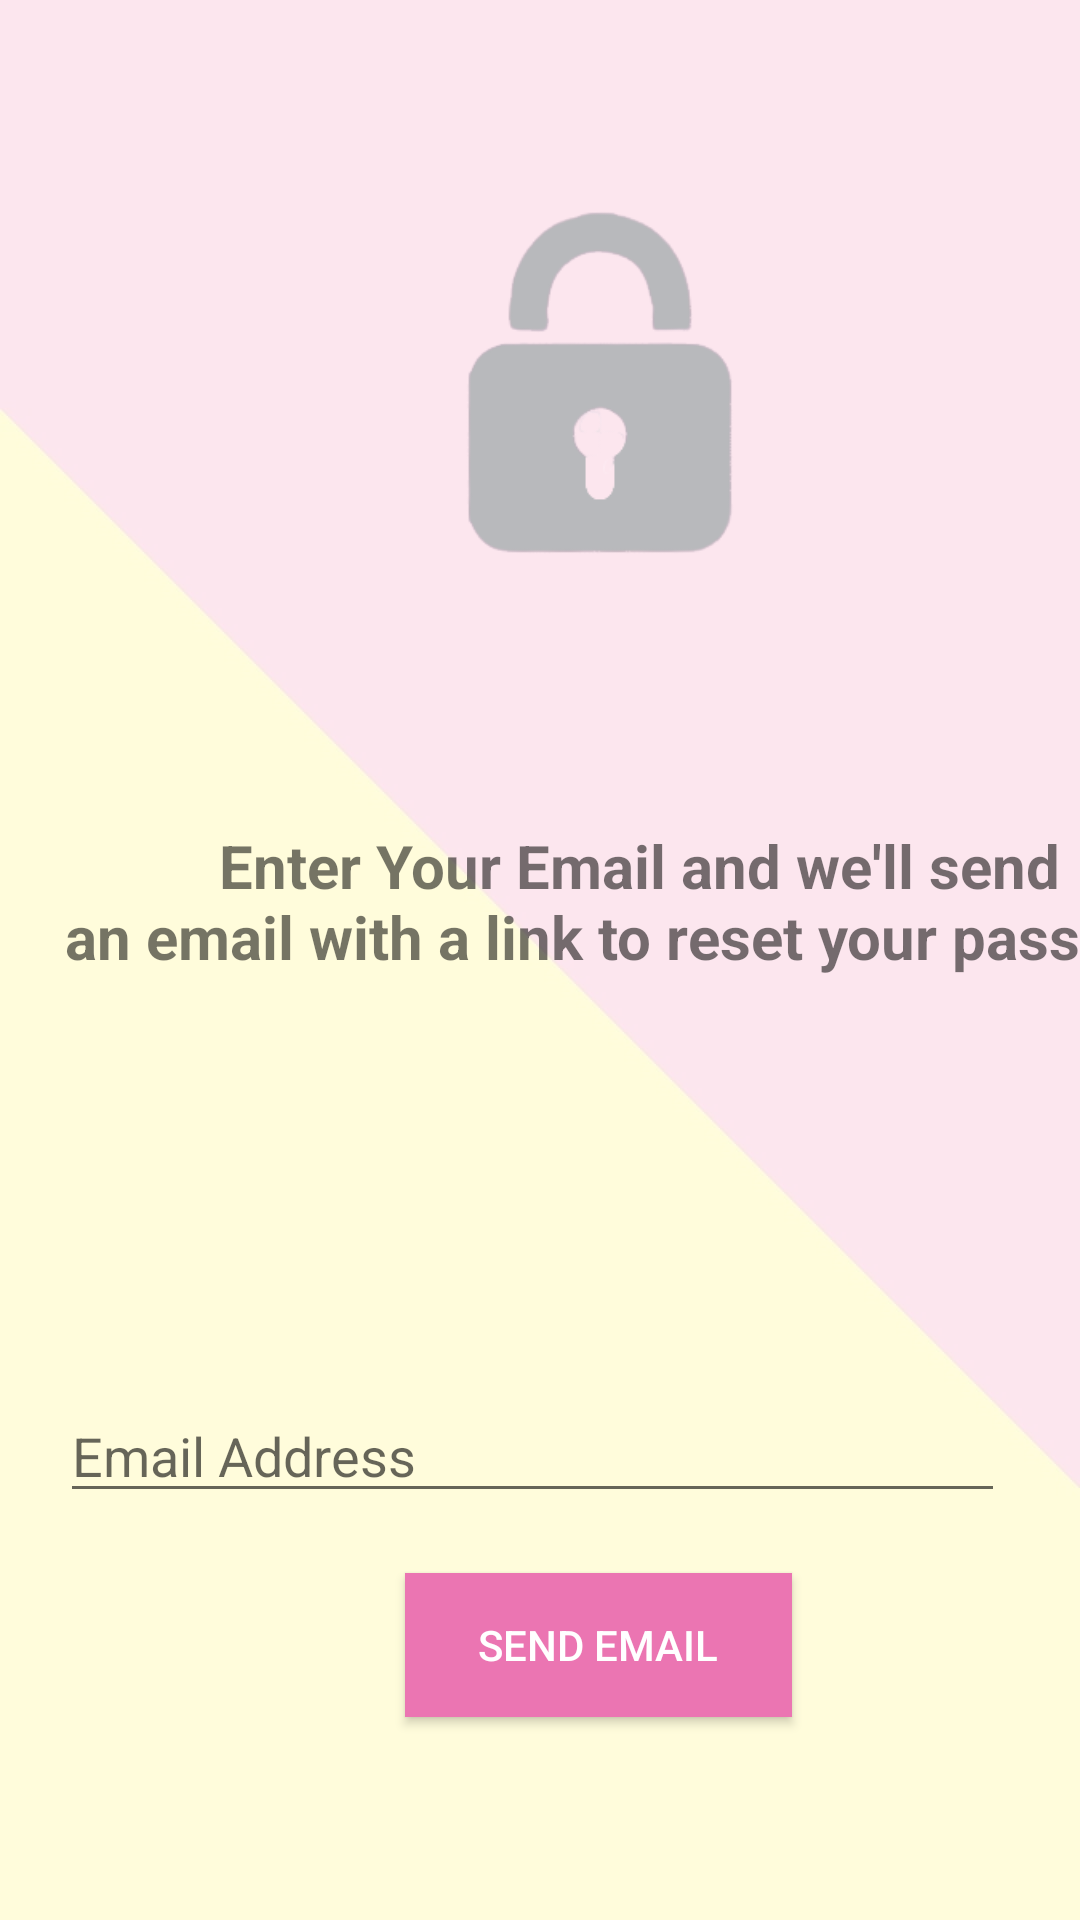

Screen size 1080*1920. Icon name, then its box in pixels as region(x1, y1, x2, y2):
lock: region(469, 213, 731, 552)
